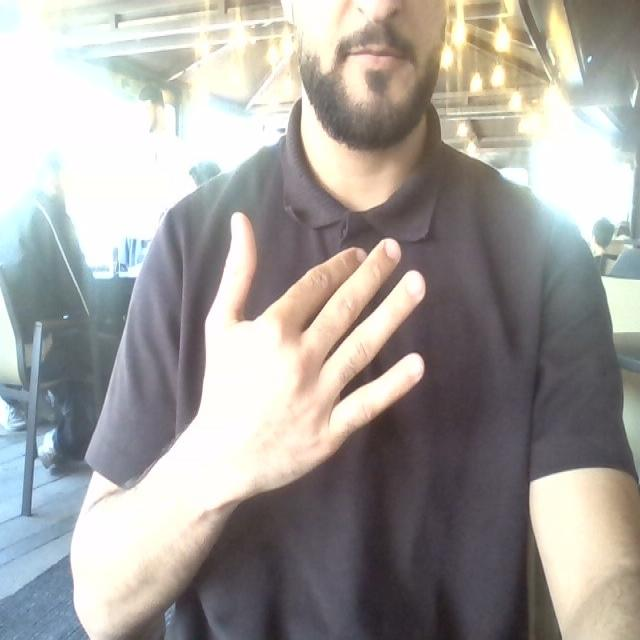Hand: (187, 214, 424, 497)
